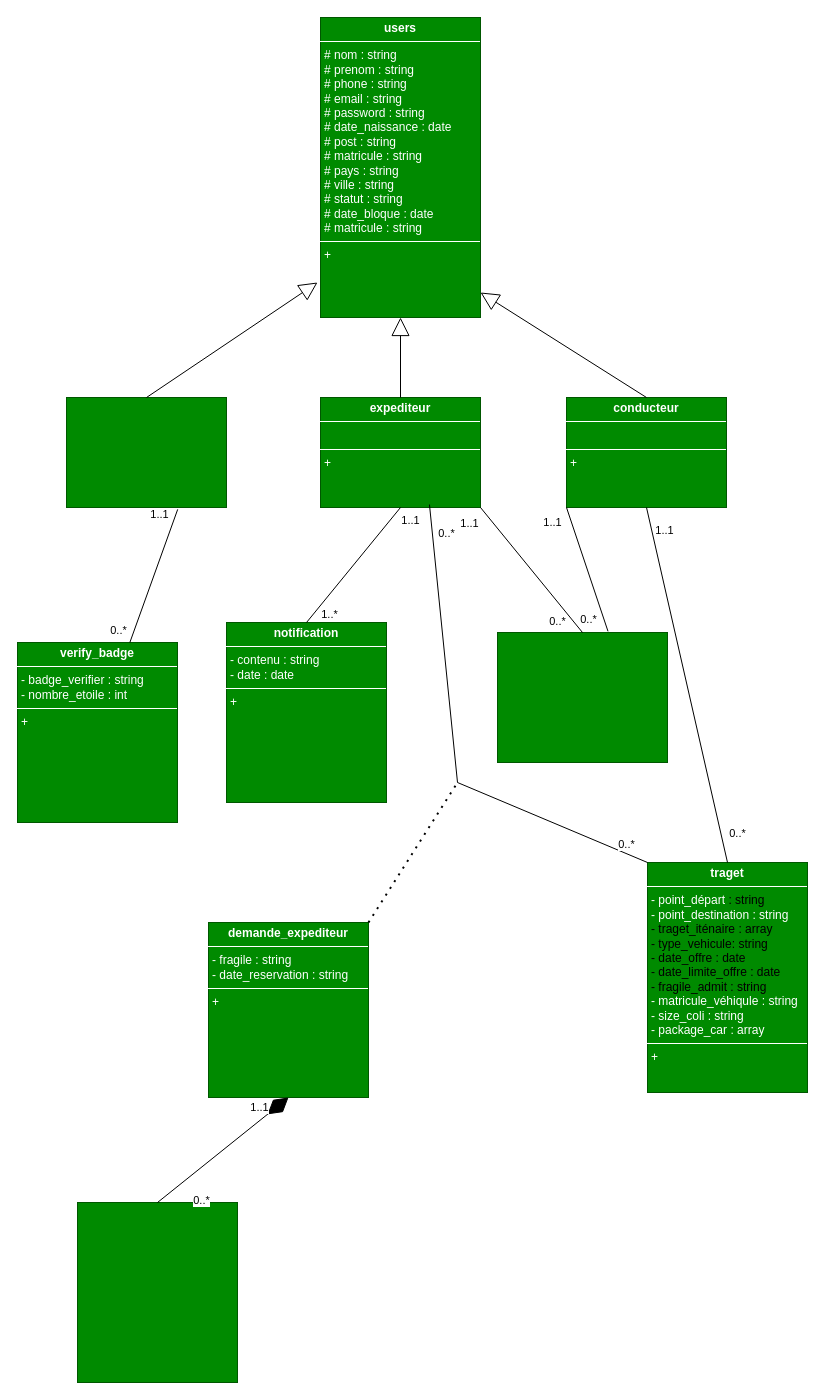
This 825x1400 diagram has some shape labels left out. The shapes that lost their labels are listed below. From the top down, each one's centre as x and y in pixels, then its label:
At point (146, 452): "admin +".
At point (582, 697): "avis - message_conducteur : string - message_expediteur : string +".
At point (157, 1292): "fragile_colier - size_colier : array -nbr_colier_fragile : int +".
